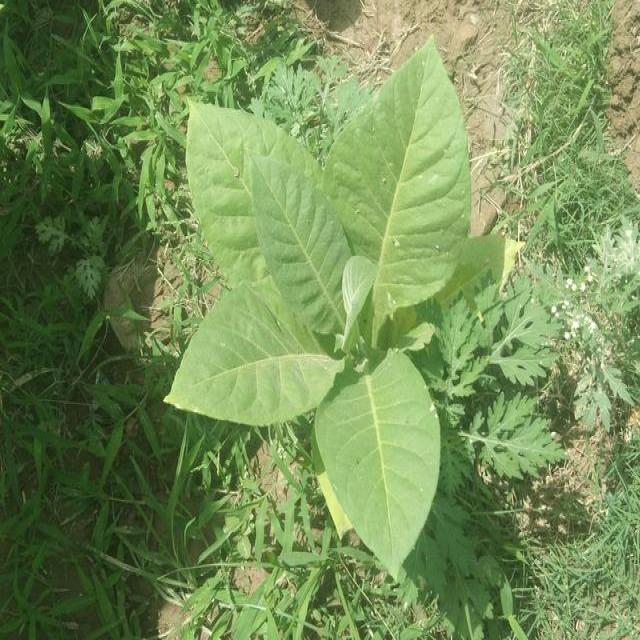crop: (146, 28, 479, 579)
